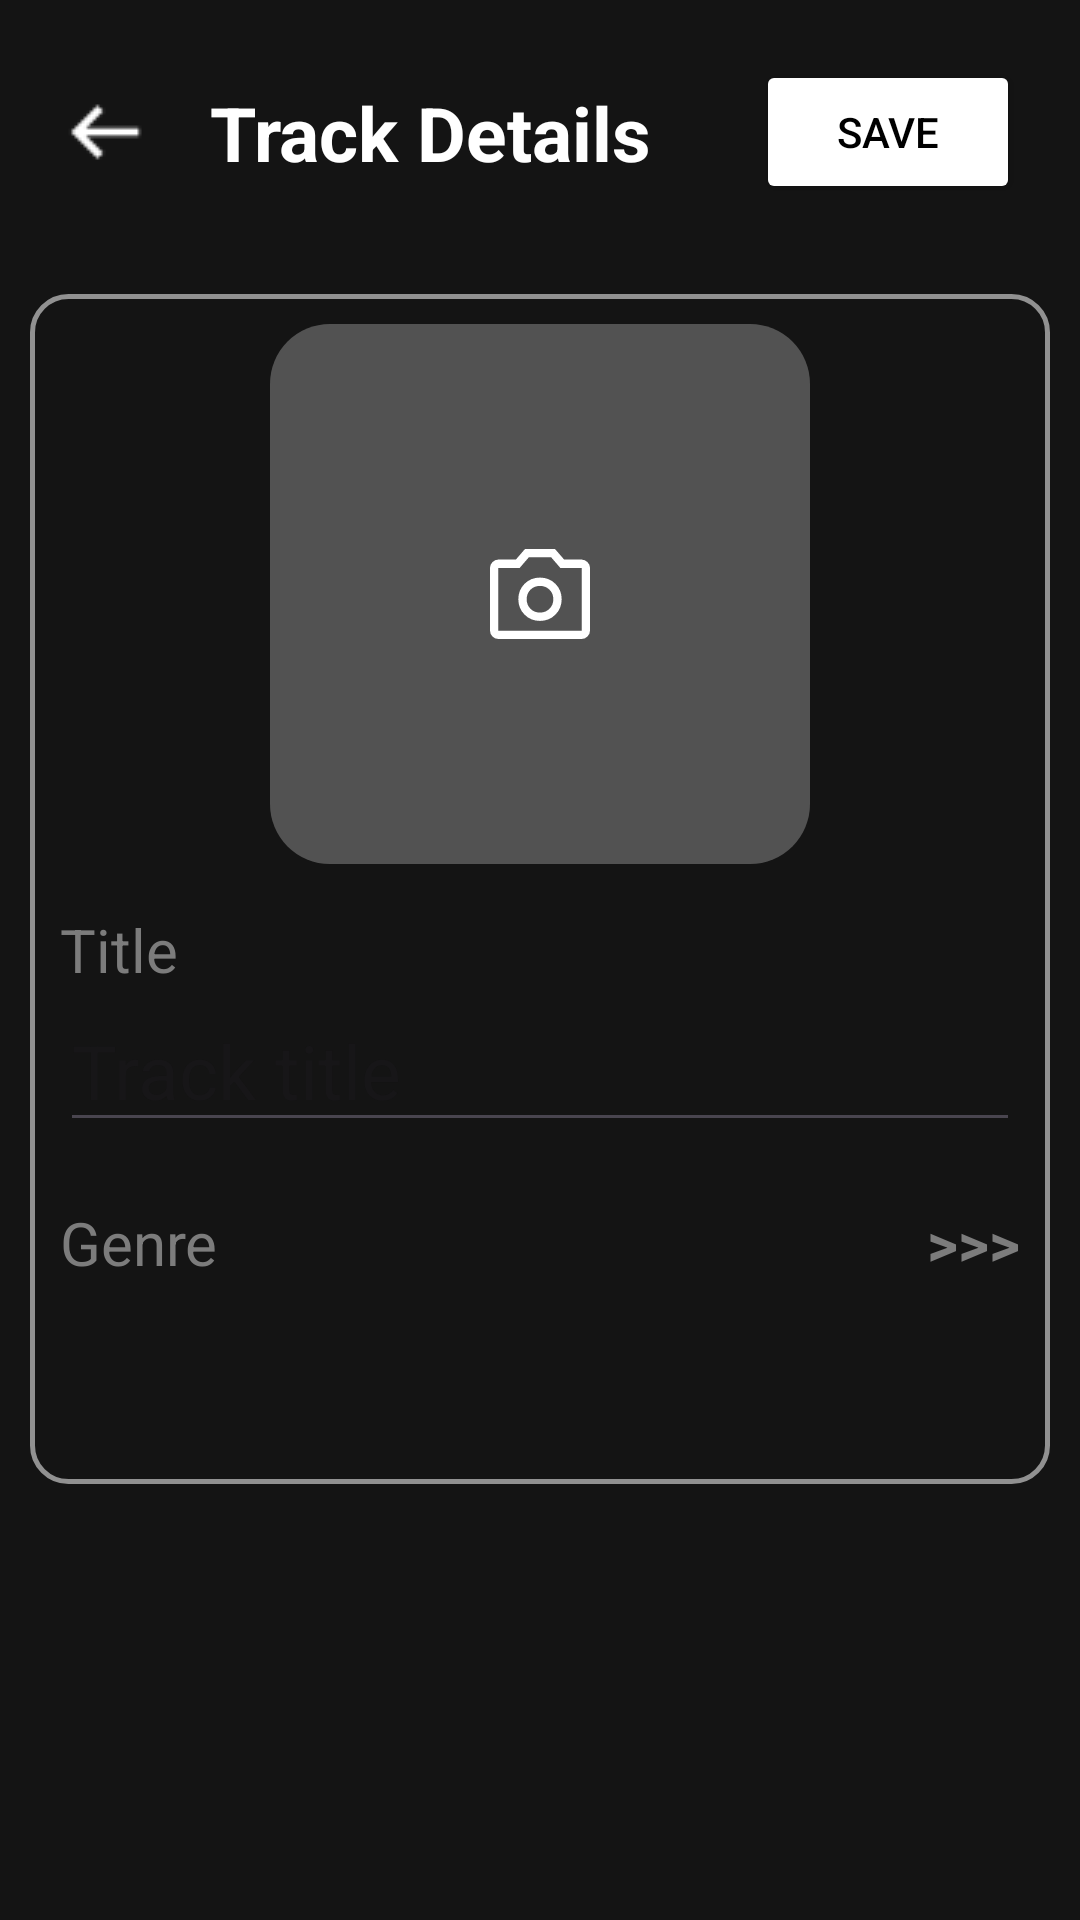

Icons on this 1080*1920 Android screen, each with its box as (x1,y1,x2,y2):
back: (71,104,141,160)
camera: (490,549,590,639)
